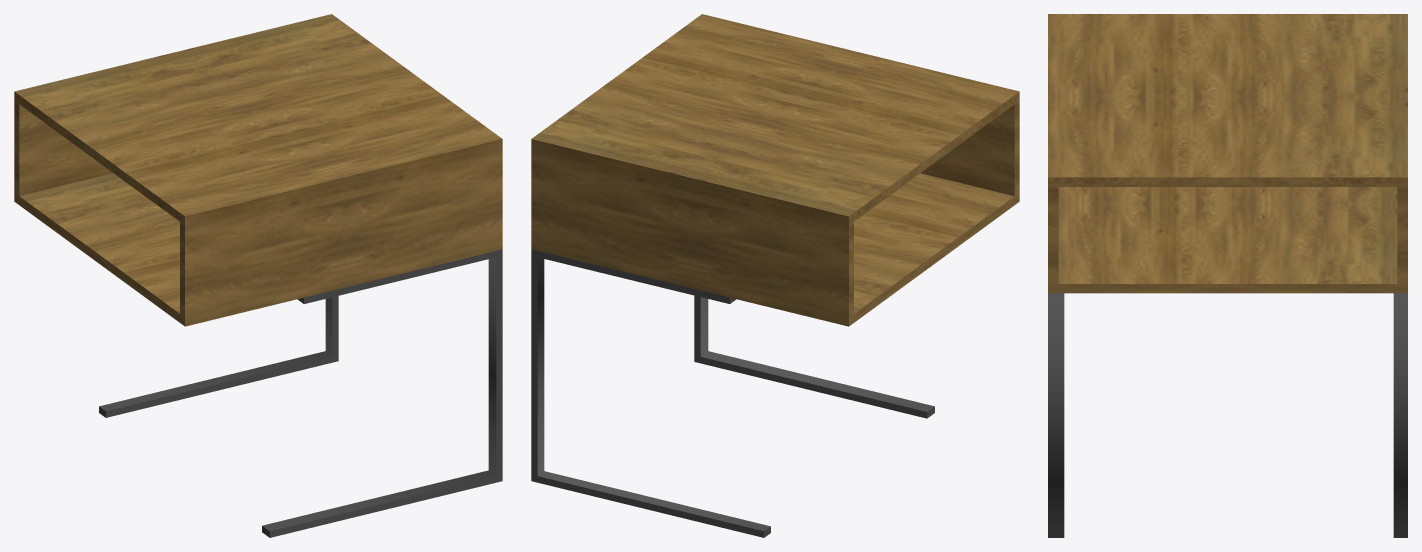
File: Table.fbx
3 renders of one model, left to right at view 1: azimuth 30°, elevation 25°; view 2: azimuth 150°, elevation 25°; view 3: azimuth 270°, elevation 25°, orthographic. The views are drawn at different scales.
Visible parts, largest first — view 1: Table; view 2: Table; view 3: Table.
Part boxes in pixels (<box>): Table: <box>14,14,502,537</box>; Table: <box>531,14,1019,537</box>; Table: <box>1048,14,1407,537</box>.
Bounding box in the file's own units: 25.1 × 23.37 × 25.84.
1 material, 1 textured.
